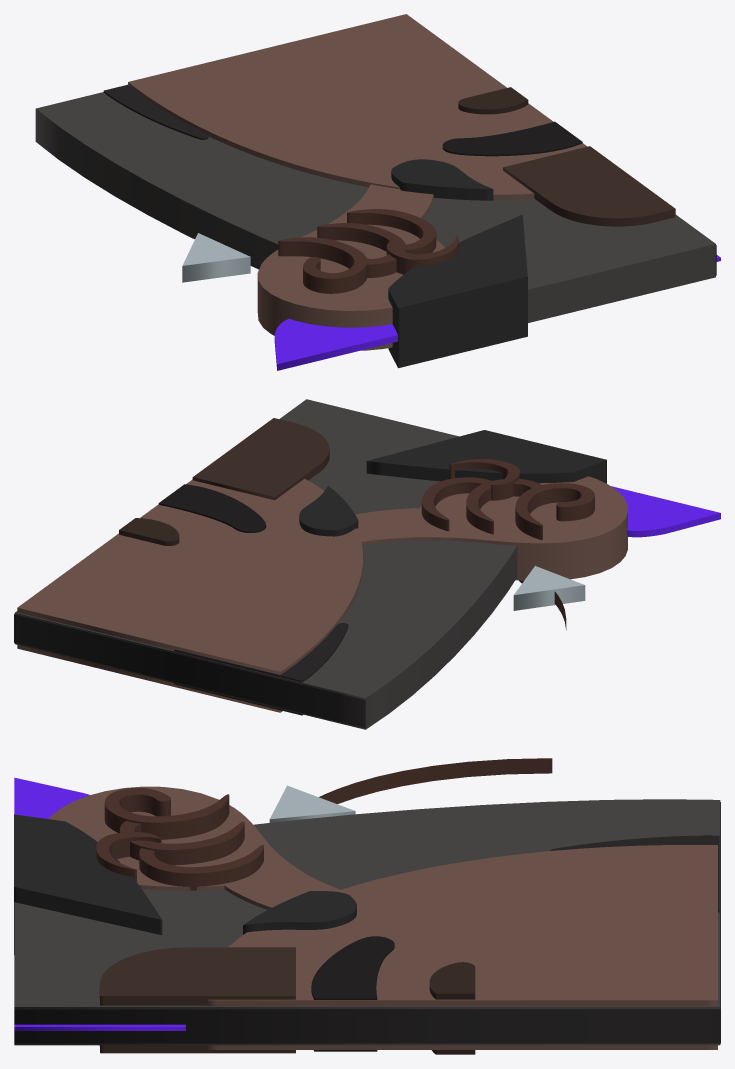
Rendered from emoji_u1f9cf_1f3ff_200d_2640.glb.
The picture shows the model from 3 angles, top to bottom: view 1: azimuth 30°, elevation 25°; view 2: azimuth 150°, elevation 25°; view 3: azimuth 270°, elevation 25°; orthographic projection. The views are drawn at different scales.
Visible parts, largest first — view 1: emoji_u1f9cf_1f3ff_200d_2640; view 2: emoji_u1f9cf_1f3ff_200d_2640; view 3: emoji_u1f9cf_1f3ff_200d_2640.
Part boxes in pixels (box(x1,y1,x2,y2)): emoji_u1f9cf_1f3ff_200d_2640: box(35, 14, 720, 370); emoji_u1f9cf_1f3ff_200d_2640: box(14, 399, 720, 729); emoji_u1f9cf_1f3ff_200d_2640: box(14, 758, 720, 1054).
Bounding box in the file's own units: 0.0296 × 0.0044 × 0.0336.
